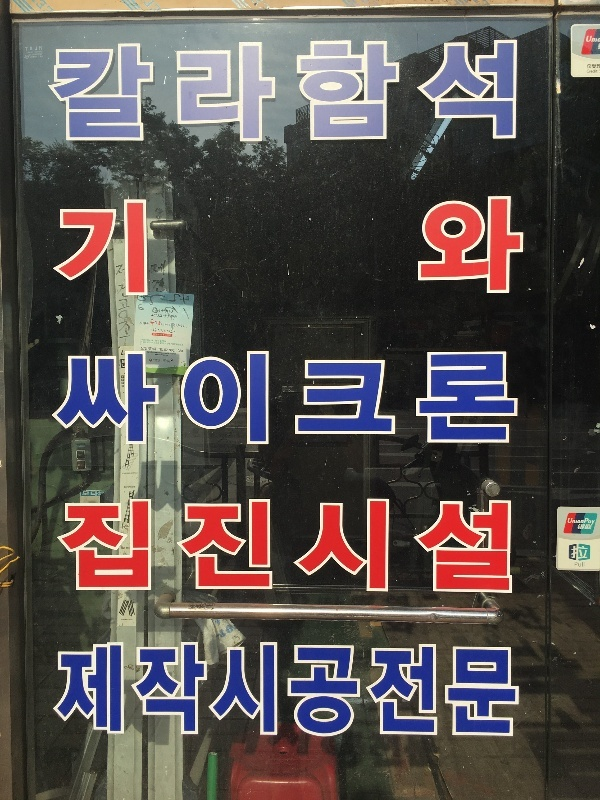text: (529, 674, 544, 797), (545, 674, 560, 797), (561, 674, 576, 797), (577, 674, 592, 797), (65, 38, 80, 147), (81, 38, 96, 147), (97, 38, 112, 147), (113, 38, 128, 147), (129, 38, 144, 147), (145, 38, 160, 147), (161, 38, 176, 147), (177, 38, 192, 147), (193, 38, 208, 147), (209, 38, 224, 147), (225, 38, 240, 147), (241, 38, 256, 147), (257, 38, 272, 147), (273, 38, 288, 147), (289, 38, 304, 147), (305, 38, 320, 147), (321, 38, 336, 147), (337, 38, 352, 147), (353, 38, 368, 147), (369, 38, 384, 147), (385, 38, 400, 147), (401, 38, 416, 147), (417, 38, 432, 147), (433, 38, 448, 147), (449, 38, 464, 147), (465, 38, 480, 147), (481, 38, 496, 147), (497, 38, 512, 147), (65, 199, 80, 302), (81, 199, 96, 302), (97, 199, 112, 302), (113, 199, 128, 302), (129, 199, 144, 302), (65, 347, 80, 450), (81, 347, 96, 450), (97, 347, 112, 450), (113, 347, 128, 450), (129, 347, 144, 450), (145, 347, 160, 450), (161, 347, 176, 450), (177, 347, 192, 450), (193, 347, 208, 450), (209, 347, 224, 450), (225, 347, 240, 450), (241, 347, 256, 450), (257, 347, 272, 450), (273, 347, 288, 450), (289, 347, 304, 450), (305, 347, 320, 450), (321, 347, 336, 450), (337, 347, 352, 450), (353, 347, 368, 450), (369, 347, 384, 450), (385, 347, 400, 450), (401, 347, 416, 450), (417, 347, 432, 450), (433, 347, 448, 450), (449, 347, 464, 450), (465, 347, 480, 450), (481, 347, 496, 450), (497, 347, 512, 450), (65, 642, 80, 745), (81, 642, 96, 745), (97, 642, 112, 745), (113, 642, 128, 745), (129, 642, 144, 745), (145, 642, 160, 745), (161, 642, 176, 745), (177, 642, 192, 745), (193, 642, 208, 745), (209, 642, 224, 745), (225, 642, 240, 745), (241, 642, 256, 745), (257, 642, 272, 745), (273, 642, 288, 745), (289, 642, 304, 745), (305, 642, 320, 745), (321, 642, 336, 745), (337, 642, 352, 745), (353, 642, 368, 745), (369, 642, 384, 745), (385, 642, 400, 745), (401, 642, 416, 745), (417, 642, 432, 745), (433, 642, 448, 745), (449, 642, 464, 745), (465, 642, 480, 745), (481, 642, 496, 745), (497, 642, 512, 745), (65, 495, 80, 597), (81, 495, 96, 597), (97, 495, 112, 597), (113, 495, 128, 597), (129, 495, 144, 597), (145, 495, 160, 597), (161, 495, 176, 597), (177, 495, 192, 597), (193, 495, 208, 597), (209, 495, 224, 597), (225, 495, 240, 597), (241, 495, 256, 597), (257, 495, 272, 597), (273, 495, 288, 597), (289, 495, 304, 597), (305, 495, 320, 597), (321, 495, 336, 597), (337, 495, 352, 597), (353, 495, 368, 597), (369, 495, 384, 597), (385, 495, 400, 597), (401, 495, 416, 597), (417, 495, 432, 597), (433, 495, 448, 597), (449, 495, 464, 597), (465, 495, 480, 597), (481, 495, 496, 597), (497, 495, 512, 597), (577, 605, 593, 700), (417, 196, 432, 297), (433, 196, 448, 297), (449, 196, 464, 297), (465, 196, 480, 297), (481, 196, 496, 297), (497, 196, 512, 297), (516, 674, 528, 797), (513, 347, 527, 450), (513, 605, 528, 700), (529, 605, 544, 700), (545, 605, 560, 700), (561, 605, 576, 700), (52, 38, 64, 147), (53, 642, 64, 745), (513, 196, 524, 297), (513, 642, 523, 745), (145, 456, 160, 517), (161, 456, 176, 517), (513, 38, 521, 147), (593, 674, 600, 797), (289, 704, 304, 761), (56, 199, 64, 302), (504, 605, 512, 700), (321, 724, 336, 773), (337, 724, 352, 773), (129, 590, 144, 636), (145, 590, 160, 636), (161, 590, 176, 636), (177, 590, 192, 636), (369, 734, 384, 772), (385, 734, 400, 772), (401, 734, 416, 772), (417, 734, 432, 772), (161, 564, 176, 601), (177, 456, 186, 517), (117, 298, 128, 340), (433, 734, 444, 772), (60, 495, 64, 597), (150, 259, 160, 294), (305, 704, 311, 761), (248, 716, 256, 758), (145, 199, 148, 302), (139, 456, 144, 517), (152, 564, 160, 601), (283, 704, 288, 761), (257, 716, 263, 758), (225, 621, 237, 641), (161, 259, 167, 294), (513, 495, 515, 597), (353, 724, 357, 773), (124, 590, 128, 636), (145, 1, 160, 13), (116, 264, 128, 278), (577, 545, 588, 560), (257, 1, 272, 11), (177, 564, 181, 601), (118, 284, 128, 298), (217, 621, 224, 641), (577, 524, 592, 531), (193, 603, 208, 610), (150, 318, 160, 327), (161, 309, 176, 315), (33, 50, 43, 59), (129, 298, 131, 340), (82, 491, 96, 497), (212, 620, 224, 627), (163, 314, 176, 320), (49, 1, 55, 14), (366, 734, 368, 772), (571, 545, 576, 560), (161, 351, 176, 356), (584, 518, 592, 527), (161, 329, 175, 334), (147, 351, 160, 356), (593, 35, 600, 44), (33, 45, 42, 52), (164, 348, 176, 353), (145, 347, 157, 352), (568, 517, 576, 524), (577, 561, 585, 568), (593, 63, 600, 71), (586, 35, 592, 44), (151, 313, 160, 319), (26, 50, 32, 59), (163, 359, 176, 363), (177, 324, 187, 329), (251, 1, 256, 11), (577, 517, 584, 524), (25, 45, 32, 52), (164, 334, 176, 338), (140, 1, 144, 13), (151, 328, 160, 333), (161, 324, 176, 327), (101, 491, 112, 495), (586, 68, 592, 75), (98, 491, 112, 494), (98, 494, 112, 497), (587, 63, 592, 71), (147, 339, 160, 342), (45, 1, 48, 14), (180, 298, 192, 301), (122, 350, 128, 356), (593, 68, 598, 75), (169, 324, 176, 329), (177, 348, 183, 353), (182, 344, 192, 347), (153, 359, 160, 363), (593, 518, 596, 527), (597, 42, 600, 51), (167, 343, 176, 346), (147, 342, 160, 344), (139, 321, 144, 326), (155, 308, 160, 313), (161, 340, 167, 344), (122, 360, 128, 364), (122, 364, 128, 368), (161, 1, 163, 13), (161, 354, 168, 357), (145, 321, 149, 326), (154, 342, 160, 345), (154, 340, 160, 343), (177, 343, 181, 347), (155, 354, 160, 357), (141, 347, 144, 352), (171, 343, 176, 346), (161, 343, 166, 346), (574, 561, 576, 568), (153, 334, 160, 336), (190, 603, 192, 610), (161, 348, 164, 352), (81, 463, 84, 467), (158, 329, 160, 334), (158, 348, 160, 352), (161, 334, 165, 336), (81, 453, 83, 457), (78, 463, 80, 467), (142, 341, 144, 344), (145, 341, 147, 344), (142, 339, 144, 342), (145, 339, 147, 342), (161, 313, 162, 319), (97, 491, 98, 497), (79, 453, 80, 457)
